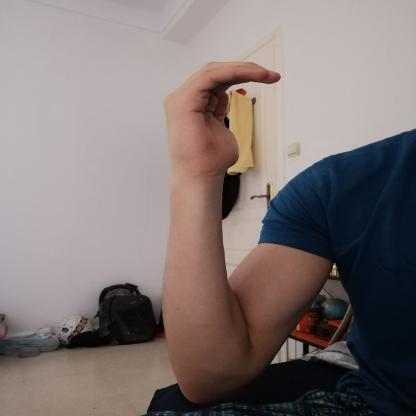HAA: (146, 47, 294, 180)
